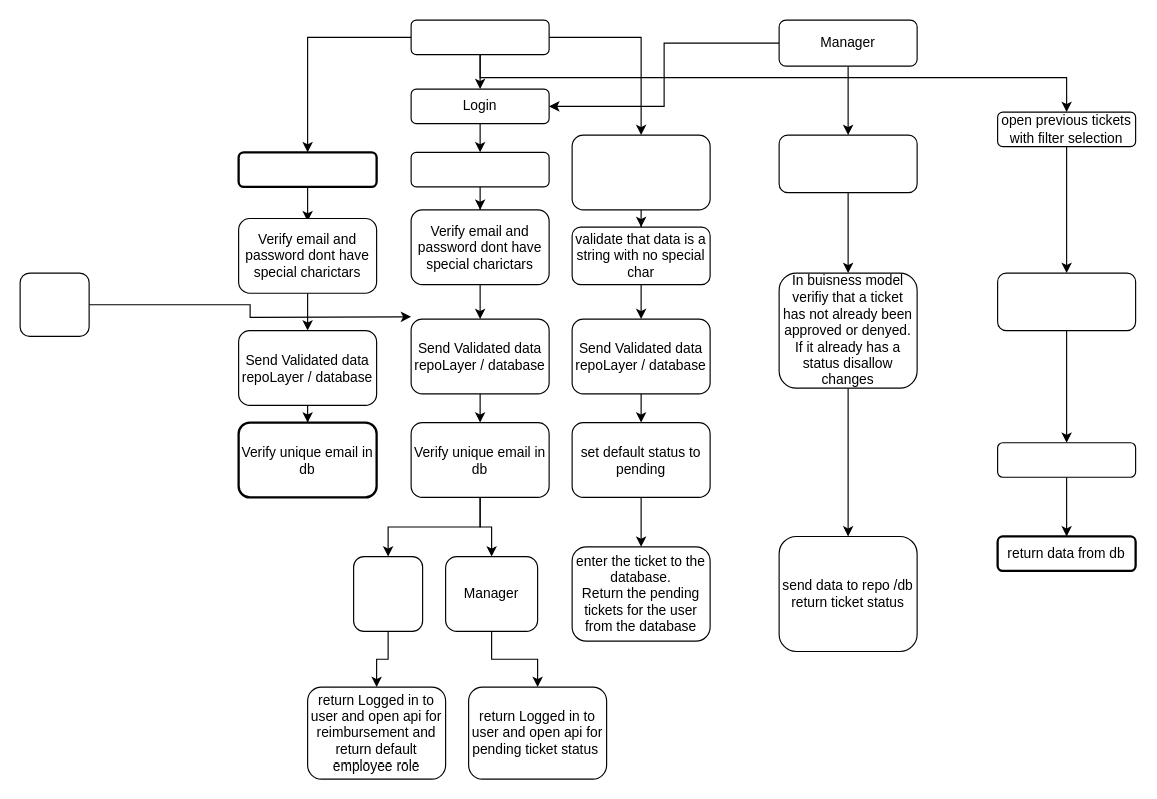
Image size: 1157x799. Some labels were removed from this diagram. The box of each missing label's shape, as (x1, y1, x2, y2) in pixels:
edit user info: (237, 151, 377, 187)
Employee: (410, 19, 549, 55)
in buisness filter by pending approved or denied: (996, 272, 1136, 331)
in ticket api manager can approve or deny reimbursement: (778, 134, 917, 193)
Run tests on Validation: (19, 272, 89, 336)
send data to repo/db: (996, 442, 1136, 477)
send reimbursement to api with a Type, Dollar Amount: (571, 134, 710, 210)
SendData to API: (410, 151, 549, 187)
User: (352, 555, 423, 631)
